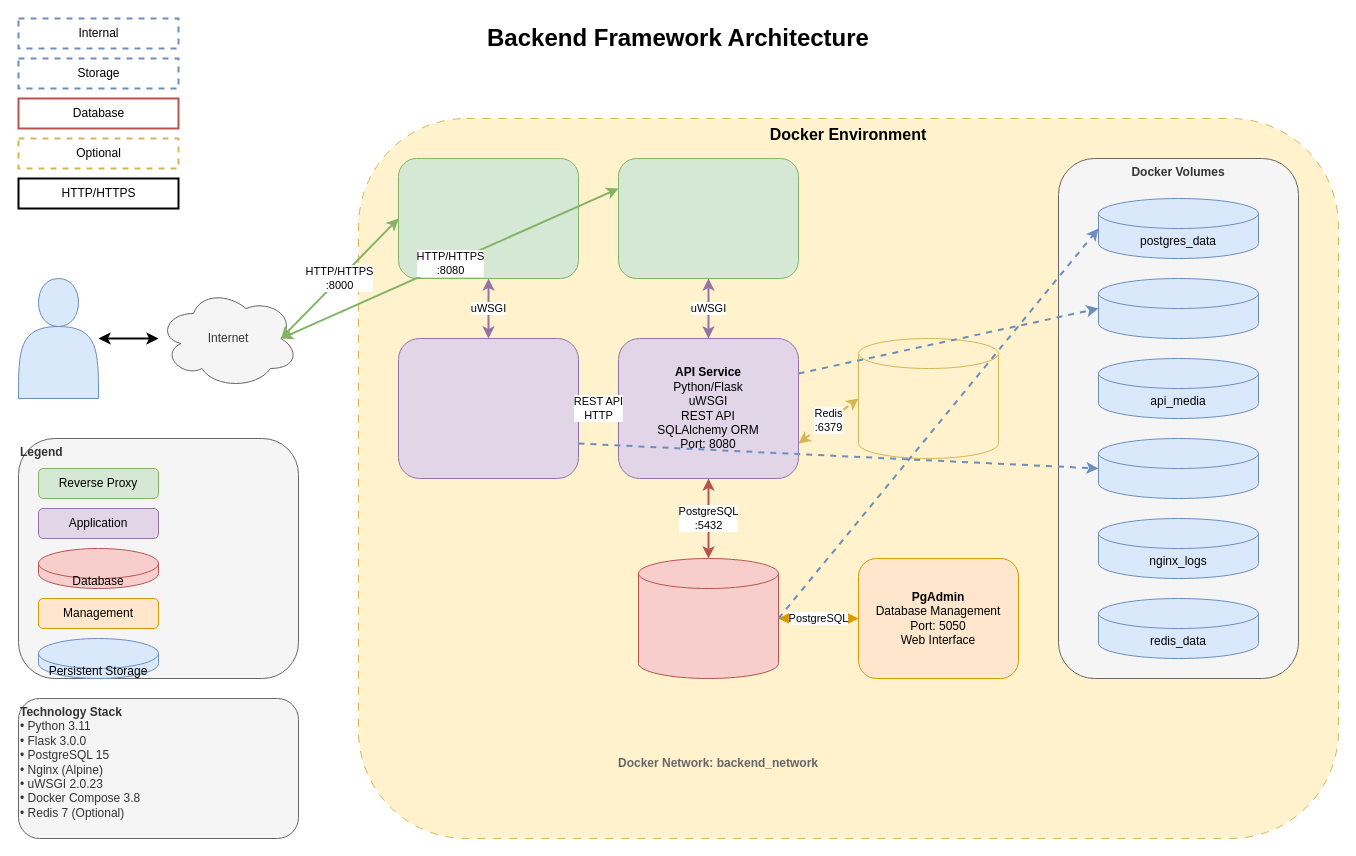
The diagram is 1356 pixels wide and 856 high, and some of its shapes have lost their labels. The shapes that lost their labels are listed below. From the top down, each one's centre as x and y in pixels, then its label:
At point 488,218: "Nginx Frontend Proxy Port: 8000 Reverse Proxy Static Files SSL/TLS".
At point 708,218: "Nginx API Gateway Port: 8080 Reverse Proxy Load Balancer SSL/TLS".
At point 1178,308: "api_static".
At point 58,338: "User Web Browser".
At point 488,408: "Frontend Service Python/Flask uWSGI Templates (Jinja2) Port: 8000".
At point 928,398: "Redis Caching Layer Session Storage Port: 6379".
At point 1178,468: "frontend_static".
At point 708,618: "PostgreSQL 15 Database Server Port: 5432 Persistent Storage Alpine Linux".
